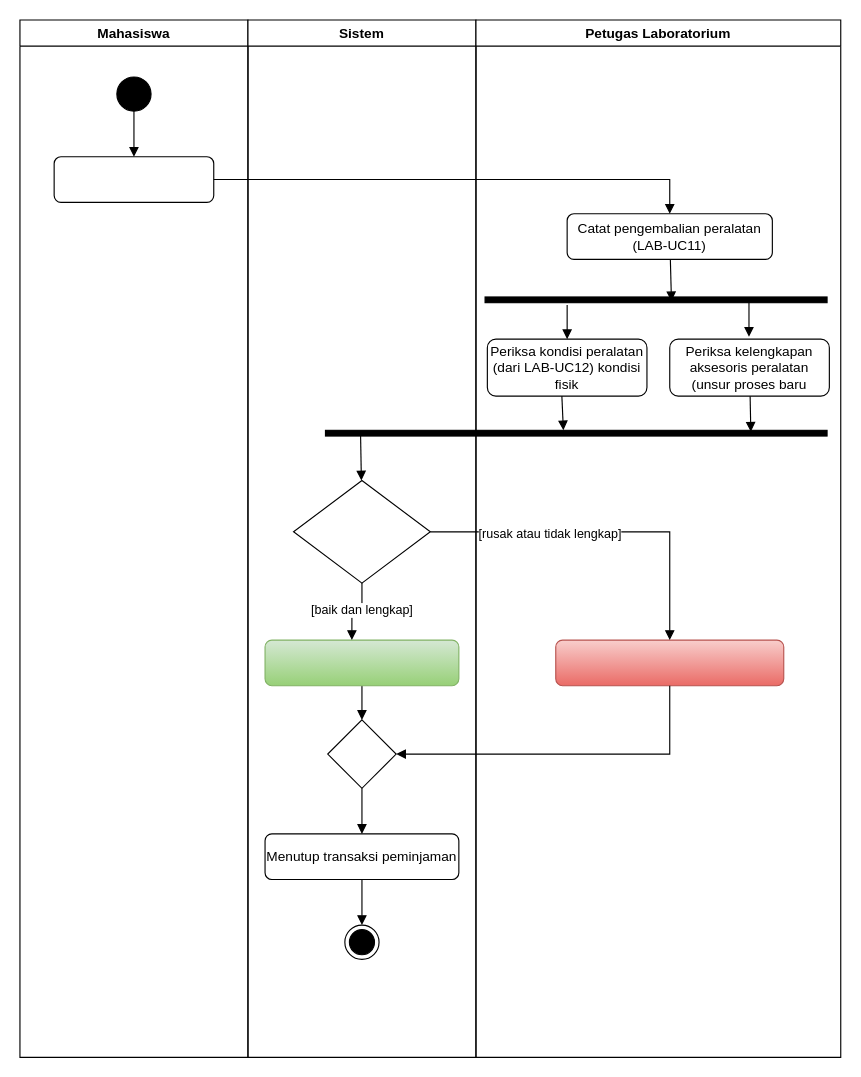
This 861x1077 diagram has some shape labels left out. The shapes that lost their labels are listed below. From the top down, each one's centre as x and y in pixels, then its label:
(133,179): Mengisi formulir pengajuan peminjaman
(361,531): KOndisi peralatan baik dan lengkap?
(361,662): Perbarui status peralatan menjadi tersedia
(669,662): catat kerusakan atau kekurangan dan jadwalkan perbaikan
